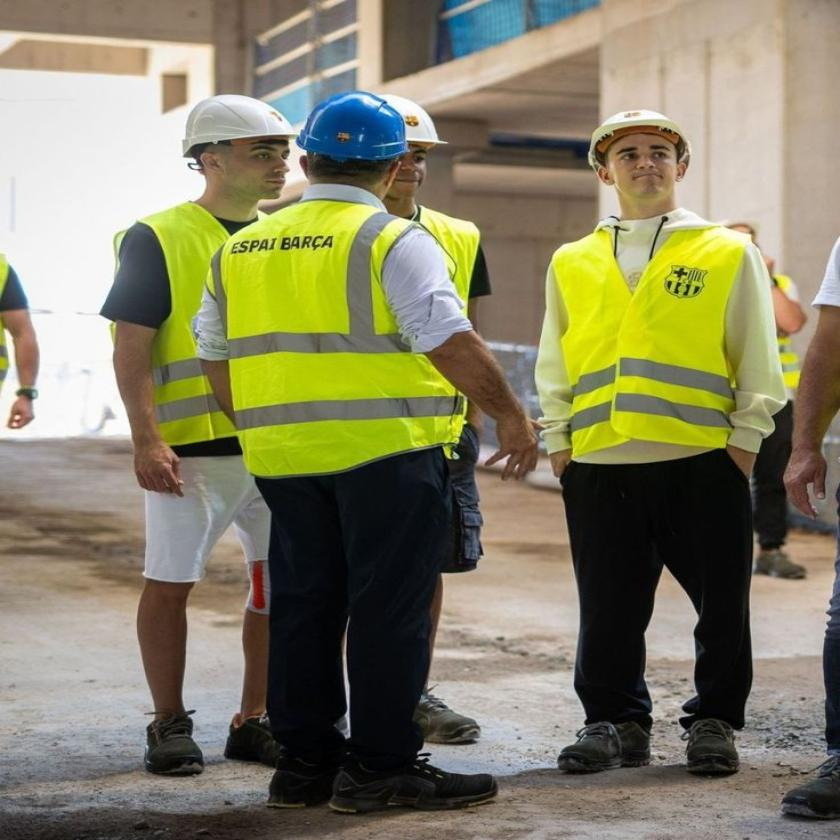Con_casco: (176, 89, 302, 213), (585, 109, 706, 220)
